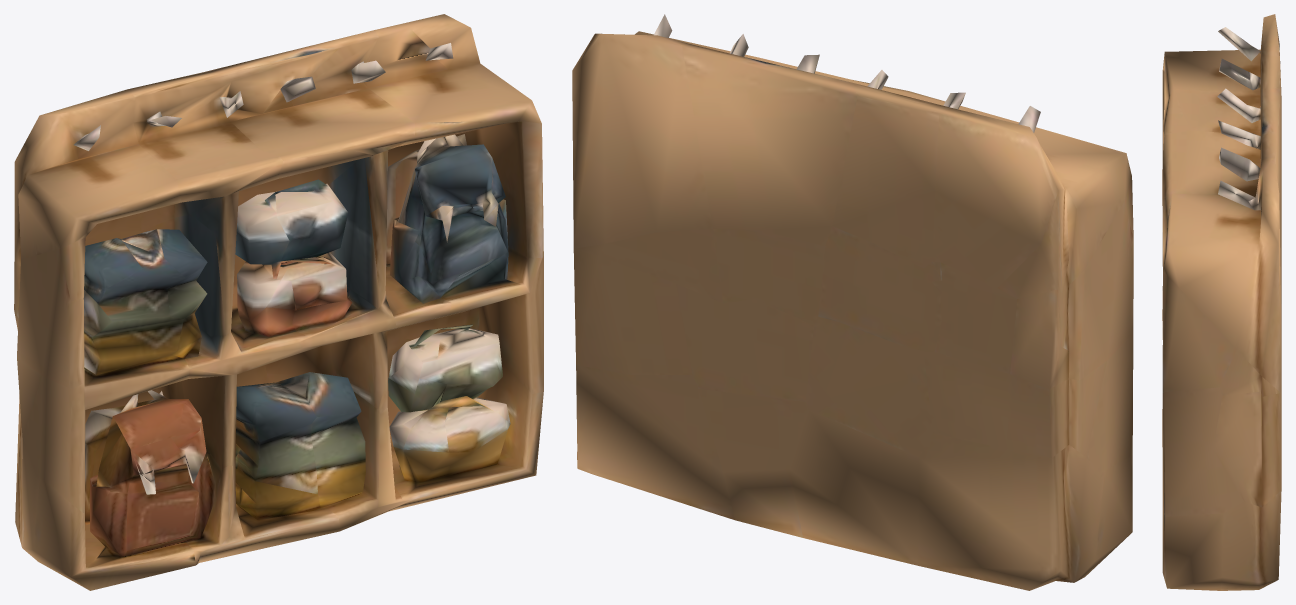
Rendered from lockers.low.glb.
3 renders of one model, left to right at view 1: azimuth 30°, elevation 25°; view 2: azimuth 150°, elevation 25°; view 3: azimuth 270°, elevation 25°, orthographic. The views are drawn at different scales.
Visible parts, largest first — view 1: tripo_node_b0fce065-342c-4e43-a012-e1b093b84d35; view 2: tripo_node_b0fce065-342c-4e43-a012-e1b093b84d35; view 3: tripo_node_b0fce065-342c-4e43-a012-e1b093b84d35.
Boxes of the visible parts, bbox=[...] form: tripo_node_b0fce065-342c-4e43-a012-e1b093b84d35: bbox=[14, 14, 543, 590]; tripo_node_b0fce065-342c-4e43-a012-e1b093b84d35: bbox=[572, 14, 1133, 590]; tripo_node_b0fce065-342c-4e43-a012-e1b093b84d35: bbox=[1162, 14, 1281, 590].
Bounding box in the file's own units: 1.72 × 1.5 × 0.4123.
1 material, 1 textured.
